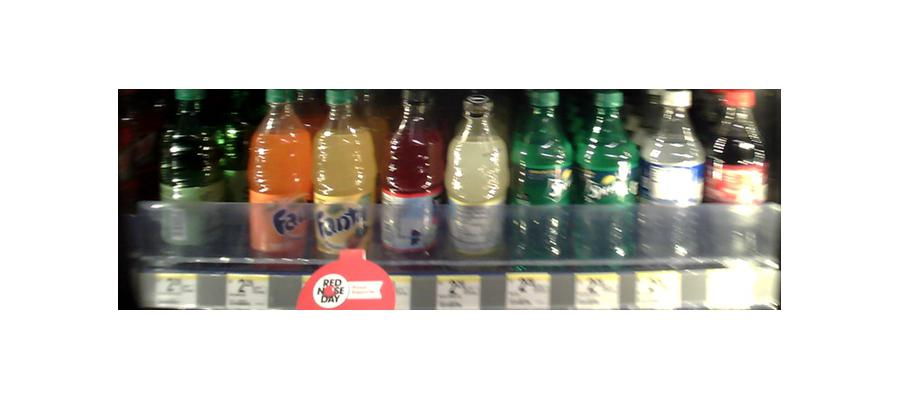bottle: (638, 86, 704, 261), (247, 84, 311, 263), (703, 93, 770, 261), (313, 88, 375, 261), (381, 86, 442, 261), (511, 87, 571, 263), (446, 92, 506, 263), (577, 89, 635, 263), (153, 121, 223, 260)
